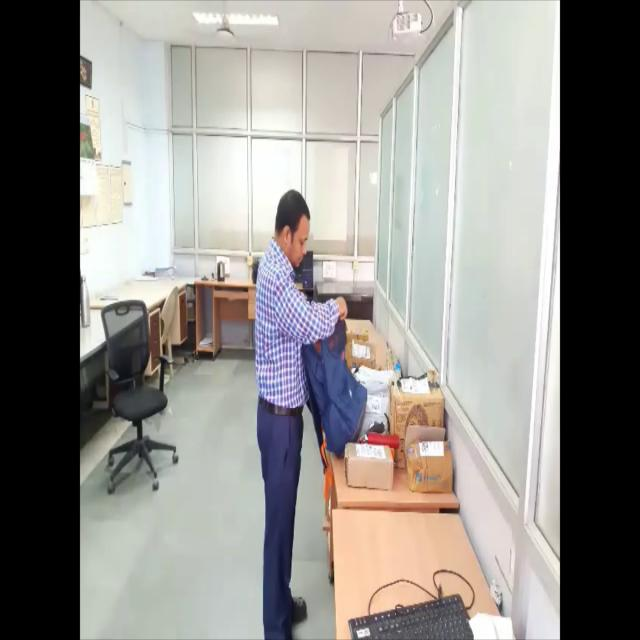shoplifting: (249, 166, 361, 640)
